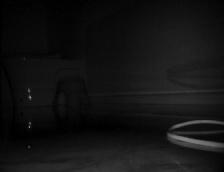toilet: (1, 51, 84, 107)
wire: (165, 117, 223, 150)
